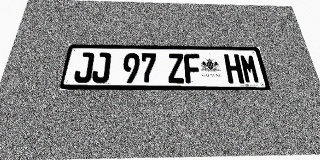7: (140, 53, 156, 83)
9: (122, 53, 140, 83)
F: (183, 54, 202, 83)
H: (224, 54, 244, 83)
J: (73, 52, 95, 83), (91, 53, 111, 83)
M: (239, 54, 261, 83)
Z: (167, 53, 185, 83)
